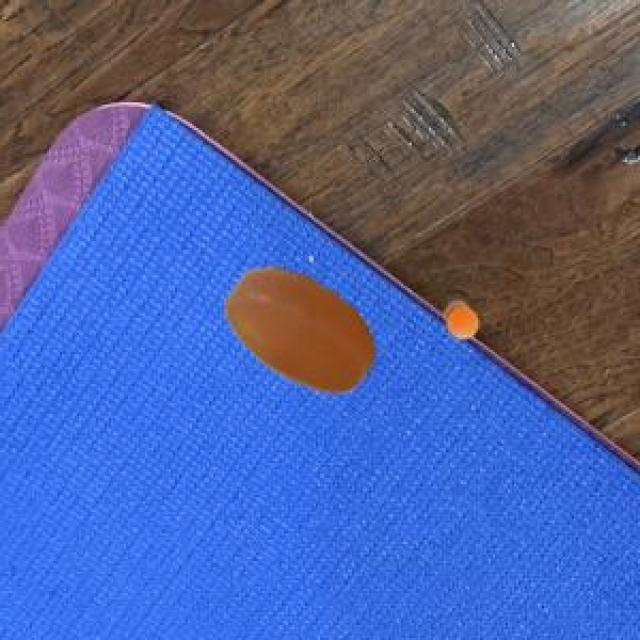Bactidol: (211, 258, 381, 419), (437, 300, 489, 346)
